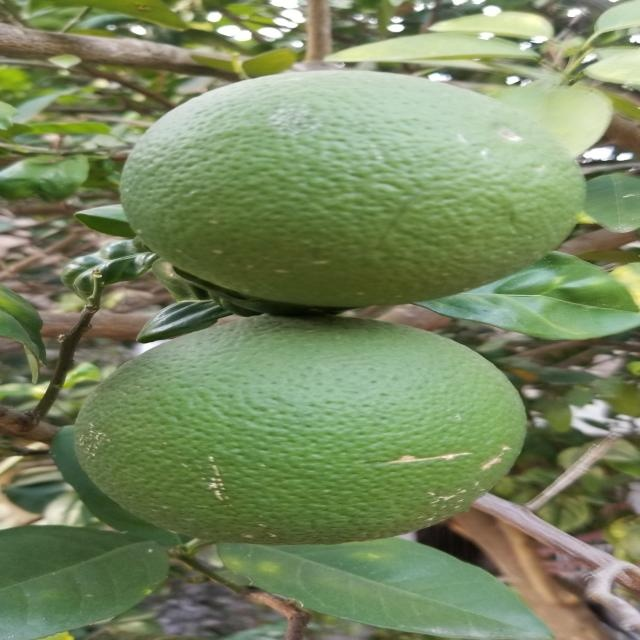agrume: (114, 65, 604, 311), (72, 308, 535, 551)
